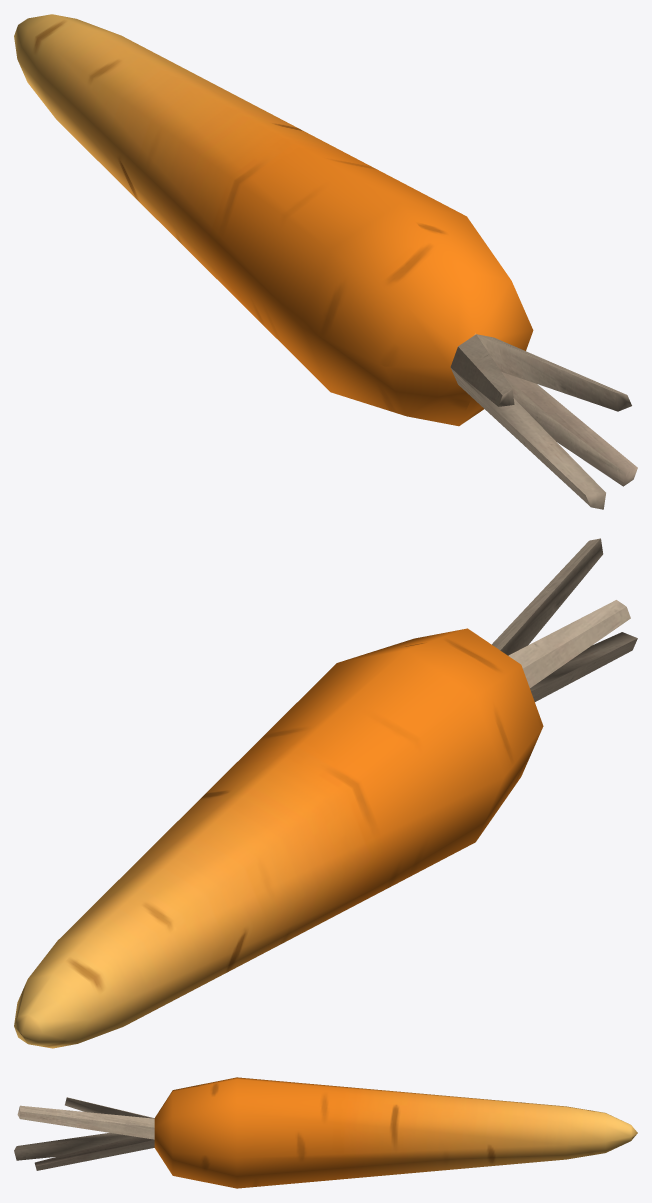
Rendered from item-carrot-nose.glb.
3 views of the same model, one above another, from view 1: azimuth 30°, elevation 25°; view 2: azimuth 150°, elevation 25°; view 3: azimuth 270°, elevation 25° (orthographic). The views are drawn at different scales.
Size of the model in its own units: 0.0302 by 0.0302 by 0.1593.
2 materials, 2 textured.
